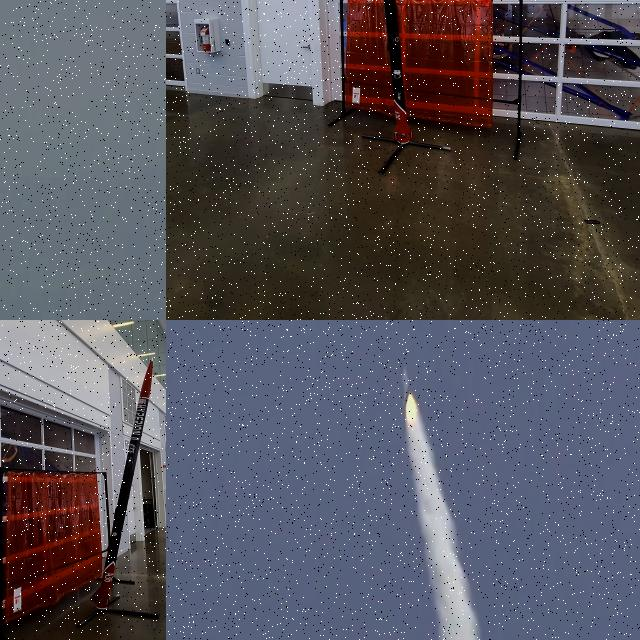Rocket: (90, 356, 154, 608), (383, 0, 416, 143), (402, 366, 413, 410)
